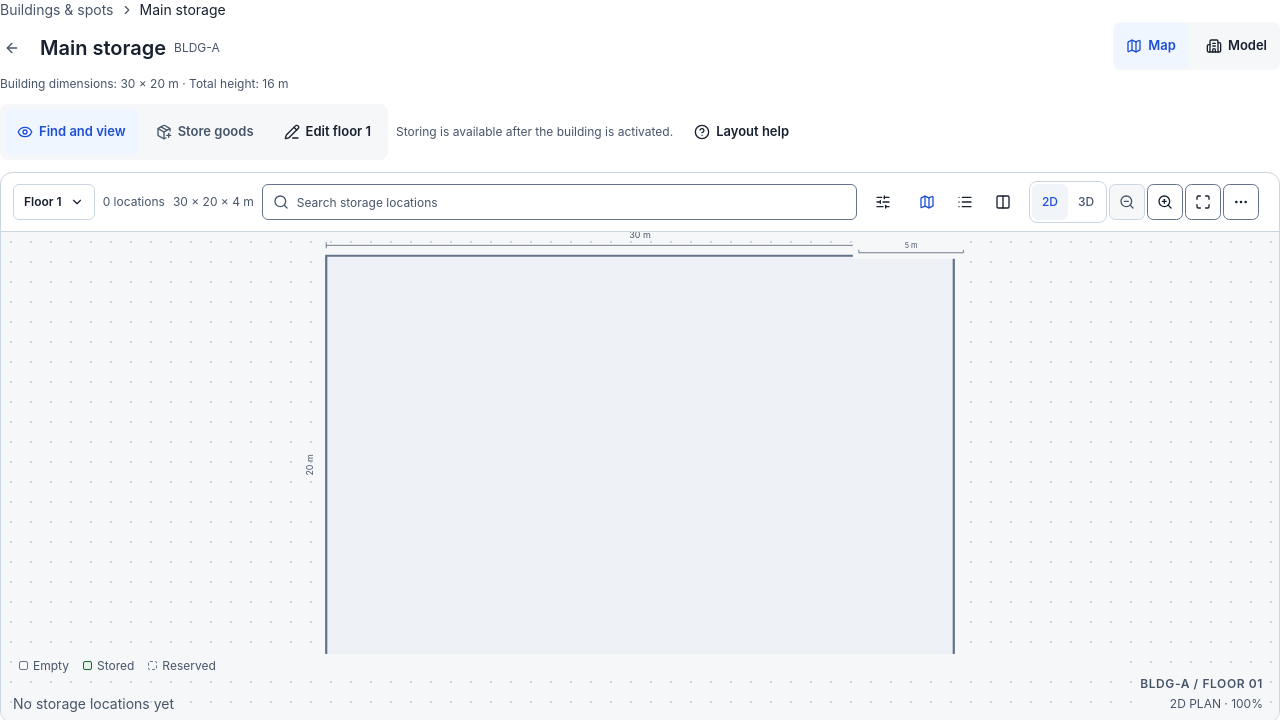
BuildingModelWorkspace › opens the existing create editor from the compact location toolbar
Expected: the number of buttons named "Display options" is 1, x1=1223 y1=184 x2=1259 y2=220
Expected: the button "Add storage spot" is not shown
Click the button "Edit floor 1". click: (327, 132)
box: x1=270 y1=108 x2=384 y2=156
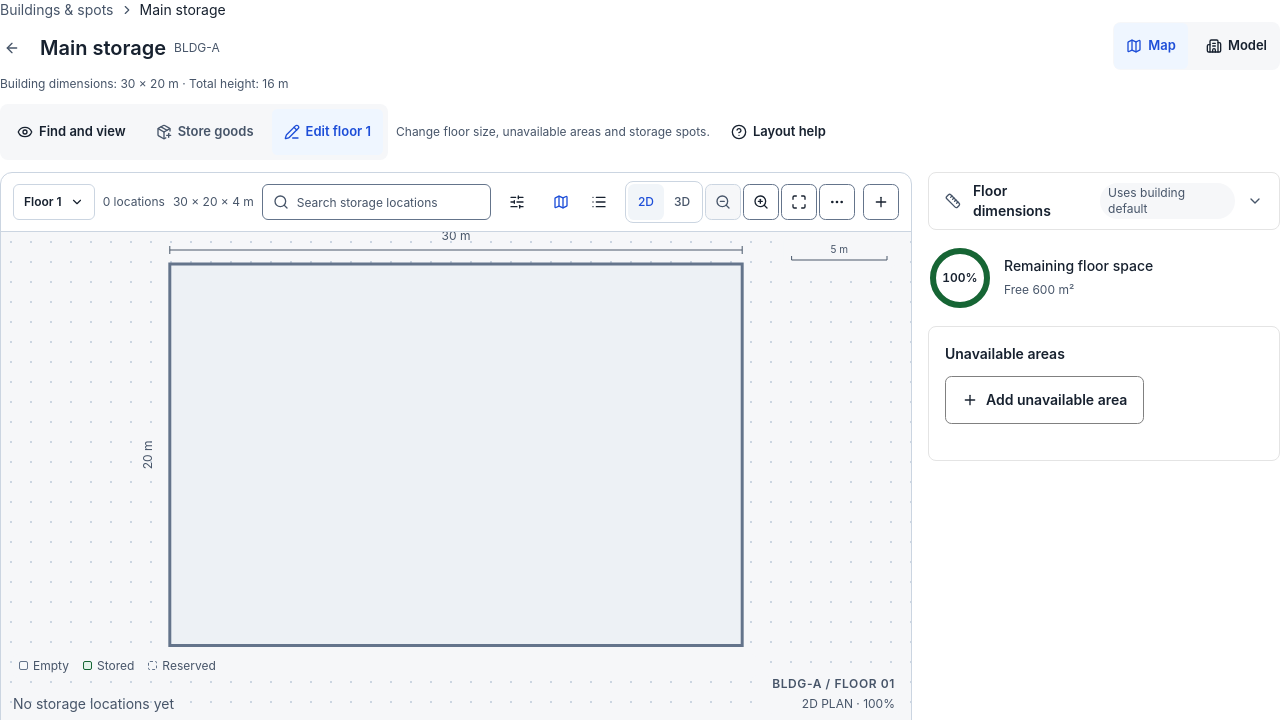
Click the button named "Add storage spot". click: (881, 202)
box: x1=863 y1=184 x2=899 y2=220
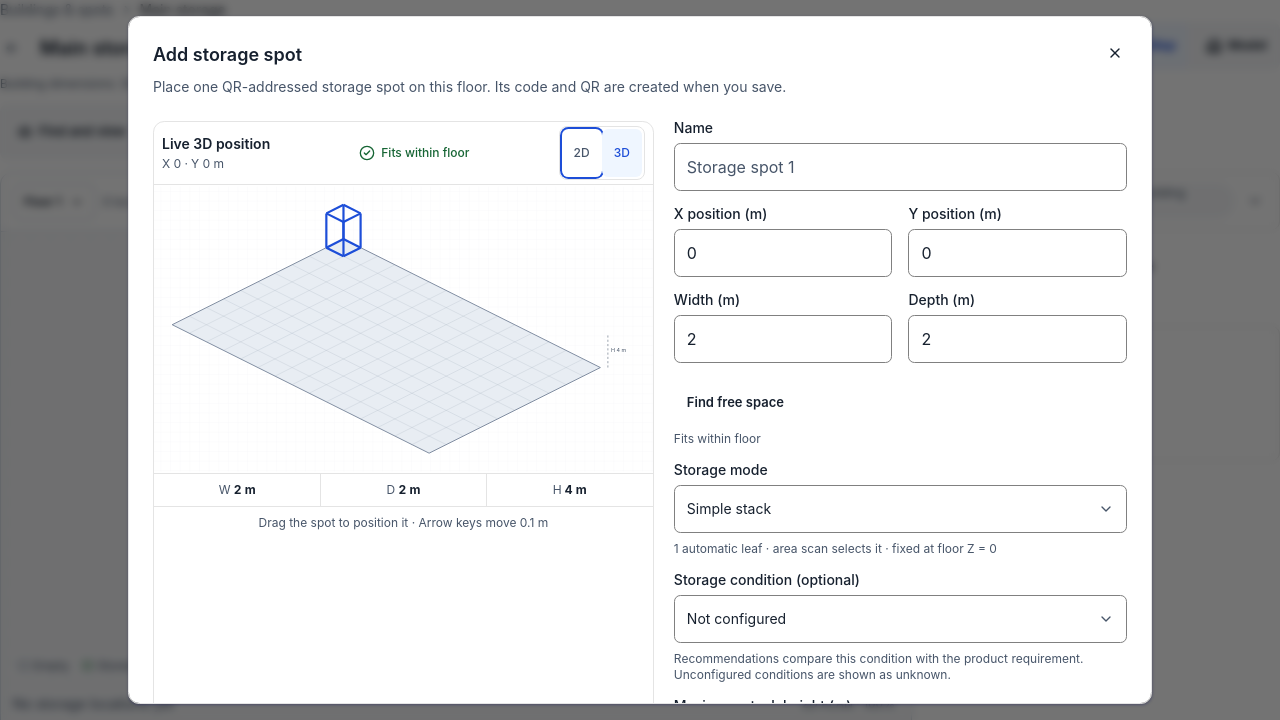
Expected: the dialog is shown
Expected: the field labelled "Name" is shown, x1=674 y1=143 x2=1127 y2=191
